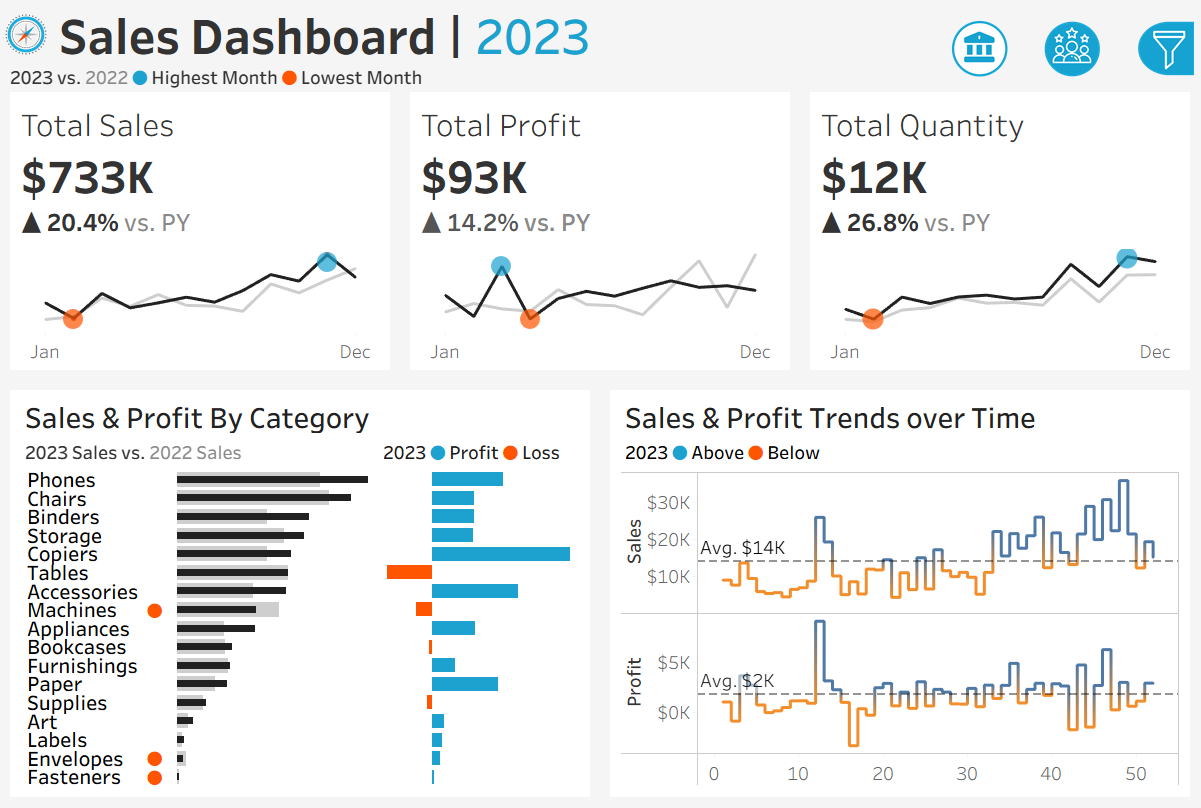

What the dashboard file says about the page in this screenshot:
{"tool":"tableau","page":{"name":"Sales Dashboard","canvas":[1200,800],"ordinal":1},"visuals":[{"type":"image","param":"Image/Icon - Logo.png","box":[0,0,51,55]},{"type":"text","box":[51,0,816,55]},{"type":"dashboard-object","box":[933,9,93,65]},{"type":"dashboard-object","box":[1026,9,93,65]},{"type":"blank","box":[944,13,241,85]},{"type":"worksheet","title":"Legend KPI","mark":"Automatic","box":[0,55,1200,30]},{"type":"worksheet","title":"KPI Sales","mark":"Automatic","rows":["Calculation_573927543221137412"],"cols":["Order Date"],"box":[0,85,400,288]},{"type":"worksheet","title":"KPI Profit","mark":"Automatic","rows":["Min/Max Sales (copy)_573927543262183436"],"cols":["Order Date"],"box":[400,85,400,288]},{"type":"worksheet","title":"KPI Quantity","mark":"Automatic","rows":["Min/Max Profit (copy)_573927543301513235"],"cols":["Order Date"],"box":[800,85,400,288]},{"type":"text","box":[944,98,241,47]},{"type":"parameter","param":"[Parameters].[Parameter 1]","box":[944,145,241,60]},{"type":"blank","box":[944,205,241,32]},{"type":"text","box":[944,237,241,39]},{"type":"filter","title":"KPI Sales","param":"[federated.1vnf5br039f23i14210yk0cm25y7].[none:Category:nk]","box":[944,276,241,70]},{"type":"filter","title":"KPI Sales","param":"[federated.1vnf5br039f23i14210yk0cm25y7].[none:Sub-Category:nk]","box":[944,346,241,70]},{"type":"text","box":[17,390,566,40]},{"type":"text","box":[617,390,566,39]},{"type":"blank","box":[944,416,241,45]},{"type":"text","box":[617,429,566,32]},{"type":"worksheet","title":"Legend Subcategory","mark":"Automatic","box":[17,430,358,29]},{"type":"text","box":[375,430,208,29]},{"type":"worksheet","title":"Subcategory Comparison","mark":"Bar","rows":["Sub-Category","Calculation_1104789349559590916"],"cols":["CY Sales (copy)_573927543169044481","Calculation_573927543168491520","Calculation_573927543247855625"],"box":[17,459,566,324]},{"type":"worksheet","title":"Weekly Trends","mark":"Automatic","rows":["Calculation_573927543168491520","Calculation_573927543247855625"],"cols":["Order Date"],"box":[617,461,566,322]},{"type":"text","box":[944,461,241,39]},{"type":"filter","title":"KPI Sales","param":"[federated.1vnf5br039f23i14210yk0cm25y7].[none:Region:nk]","box":[944,500,241,70]},{"type":"filter","title":"KPI Sales","param":"[federated.1vnf5br039f23i14210yk0cm25y7].[none:State:nk]","box":[944,570,241,70]},{"type":"filter","title":"KPI Sales","param":"[federated.1vnf5br039f23i14210yk0cm25y7].[none:City:nk]","box":[944,640,241,70]}]}

Visuals, with their boxes in screenshot pixels (x1, y1, x2, y2), scaled from the page's 1200x800 canvas onto the 1201x808 screenshot:
image: <bbox>0, 0, 51, 56</bbox>
text: <bbox>51, 0, 868, 56</bbox>
dashboard-object: <bbox>934, 9, 1027, 75</bbox>
dashboard-object: <bbox>1027, 9, 1120, 75</bbox>
blank: <bbox>945, 13, 1186, 99</bbox>
"Legend KPI" worksheet: <bbox>0, 56, 1200, 86</bbox>
"KPI Sales" worksheet: <bbox>0, 86, 400, 377</bbox>
"KPI Profit" worksheet: <bbox>400, 86, 801, 377</bbox>
"KPI Quantity" worksheet: <bbox>801, 86, 1200, 377</bbox>
text: <bbox>945, 99, 1186, 146</bbox>
parameter: <bbox>945, 146, 1186, 207</bbox>
blank: <bbox>945, 207, 1186, 239</bbox>
text: <bbox>945, 239, 1186, 279</bbox>
"KPI Sales" filter: <bbox>945, 279, 1186, 349</bbox>
"KPI Sales" filter: <bbox>945, 349, 1186, 420</bbox>
text: <bbox>17, 394, 583, 434</bbox>
text: <bbox>618, 394, 1184, 433</bbox>
blank: <bbox>945, 420, 1186, 466</bbox>
text: <bbox>618, 433, 1184, 466</bbox>
"Legend Subcategory" worksheet: <bbox>17, 434, 375, 464</bbox>
text: <bbox>375, 434, 583, 464</bbox>
"Subcategory Comparison" worksheet (Bar marks): <bbox>17, 464, 583, 791</bbox>
"Weekly Trends" worksheet: <bbox>618, 466, 1184, 791</bbox>
text: <bbox>945, 466, 1186, 505</bbox>
"KPI Sales" filter: <bbox>945, 505, 1186, 576</bbox>
"KPI Sales" filter: <bbox>945, 576, 1186, 646</bbox>
"KPI Sales" filter: <bbox>945, 646, 1186, 717</bbox>
